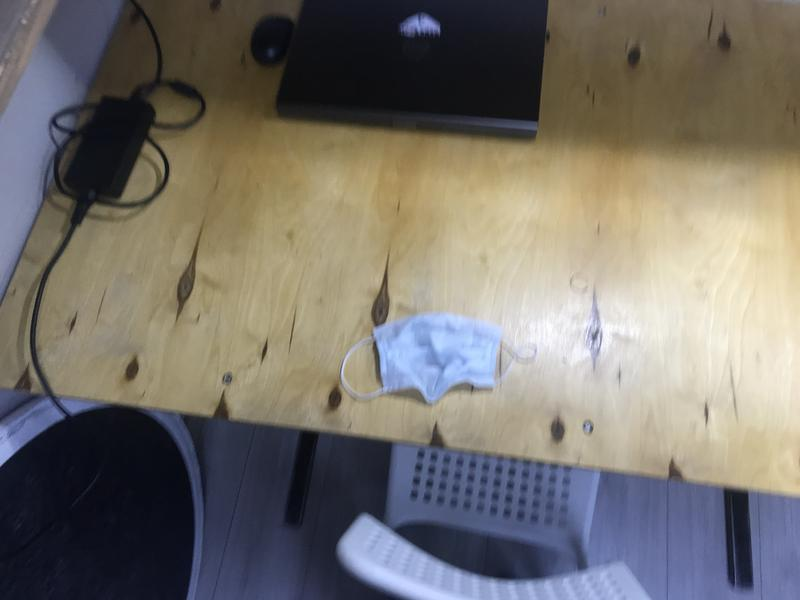medical_mask: (341, 313, 538, 403)
